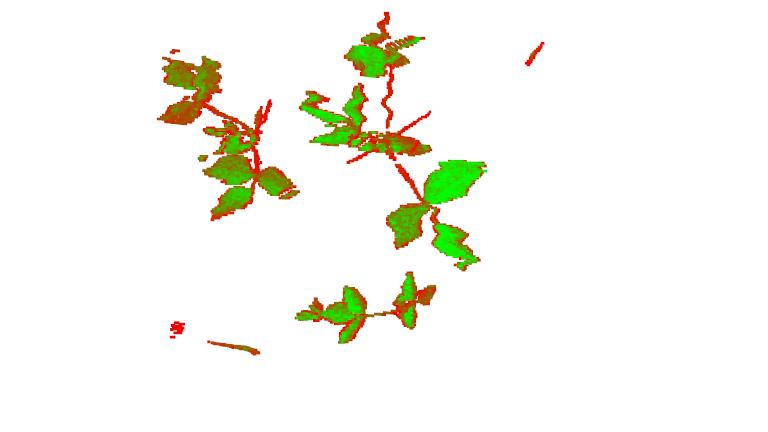mungbean: (303, 12, 488, 272), (137, 43, 302, 224), (294, 271, 436, 346)
